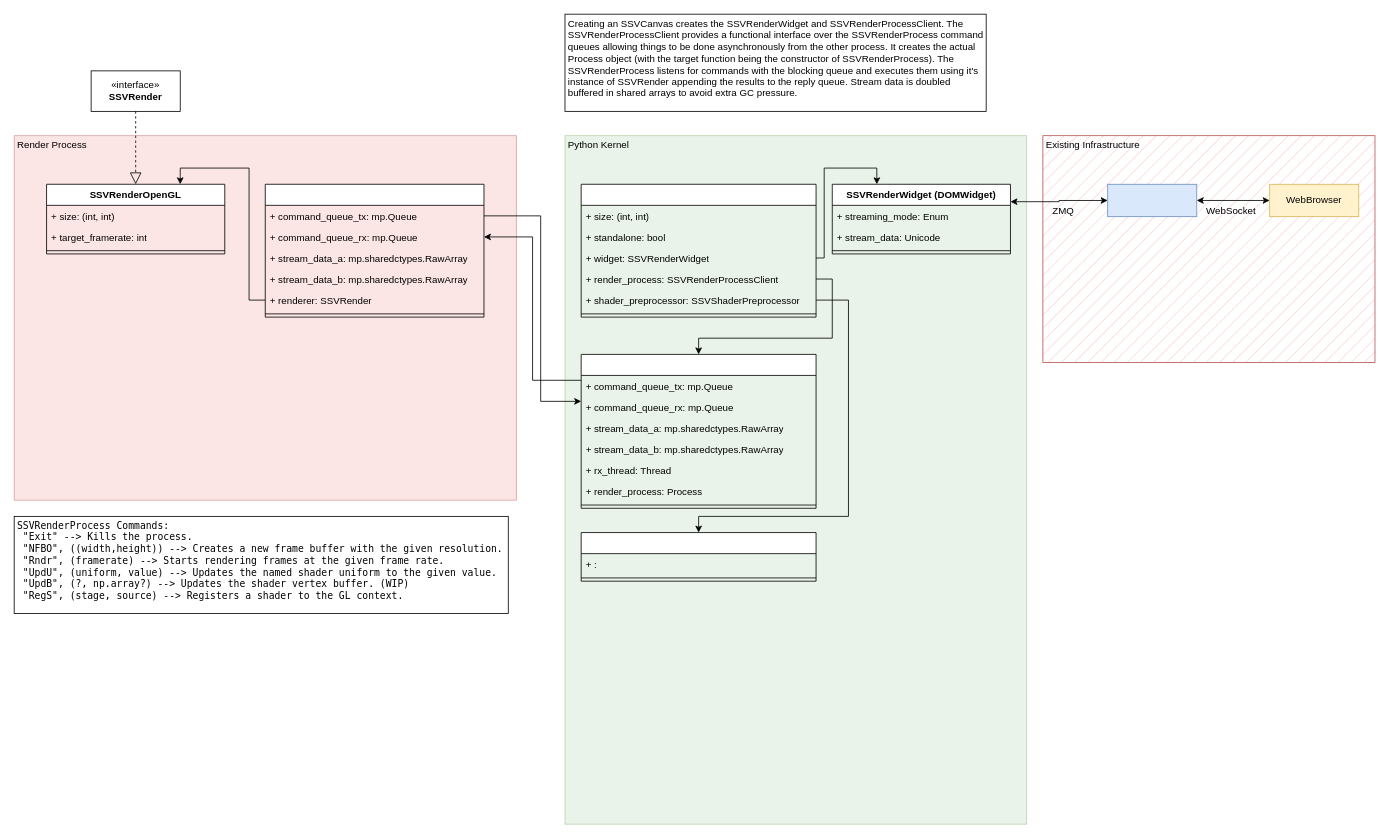
The diagram is 1389 pixels wide and 838 high, and some of its shapes have lost their labels. The shapes that lost their labels are listed below. From the top down, each one's box as (x1, y1, x2, y2) in pixels, then its label:
(1107, 183, 1197, 217): Jupyter Server
(264, 183, 484, 317): SSVRenderProcess
(580, 183, 816, 317): SSVCanvas
(580, 354, 816, 508): SSVRenderProcessClient
(580, 532, 816, 581): SSVShaderPreprocessor
